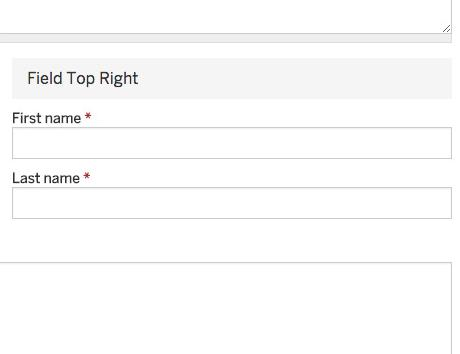field: (9, 126, 453, 161), (11, 186, 455, 221)
field_with_label: (6, 109, 457, 163), (9, 171, 458, 223)
